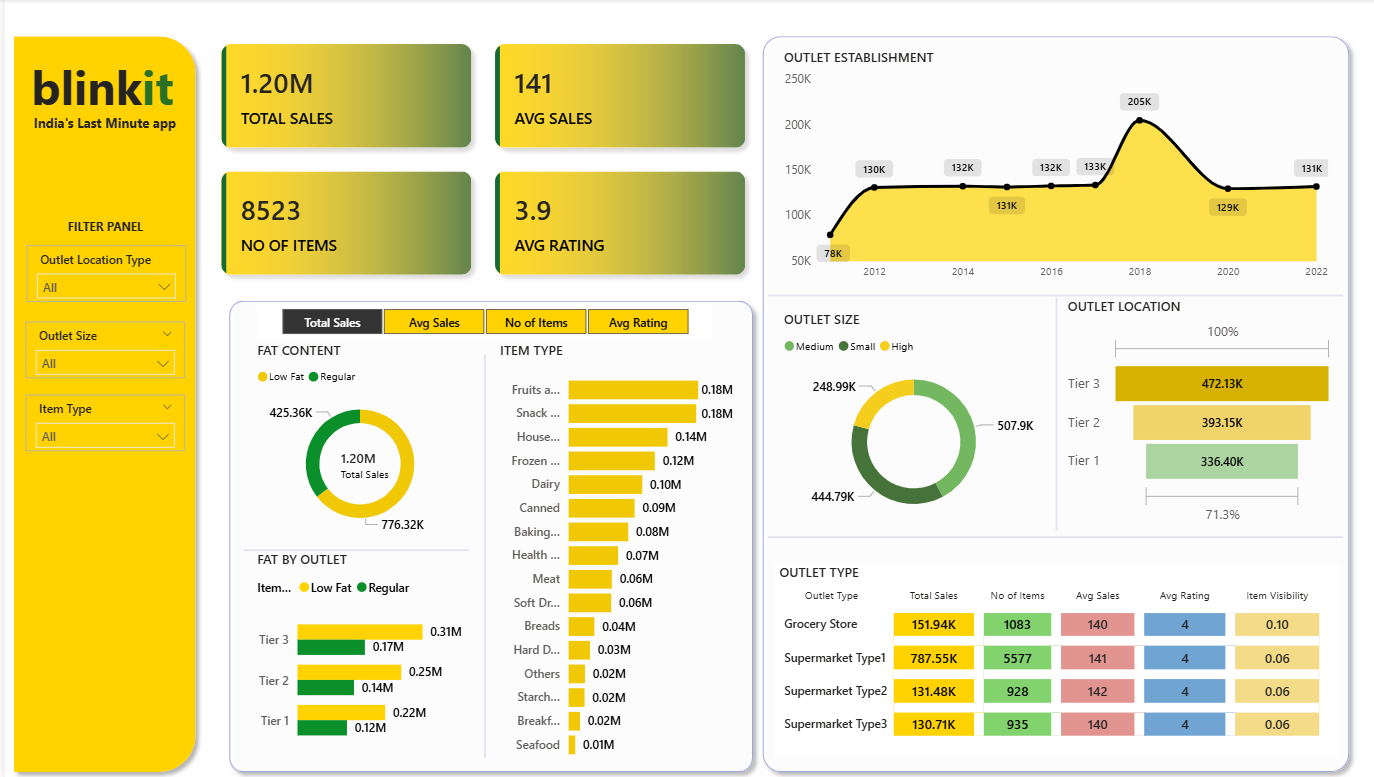

The page's visual inventory and layout, read from the dashboard file:
{"tool":"powerbi","page":{"name":"Page 1","canvas":[1400,800],"ordinal":0},"visuals":[{"type":"shape","box":[0,29.1,204,770.5],"z":0},{"type":"textbox","box":[22.1,51.3,171.4,76.9],"z":1000},{"type":"textbox","box":[24.5,113.1,169,30.3],"z":2000},{"type":"cardVisual","fields":{"Data":["BlinkIT Grocery Data.Total Sales","BlinkIT Grocery Data.Avg Sales","BlinkIT Grocery Data.No of Items","BlinkIT Grocery Data.Avg Rating"]},"box":[204,29.1,570,270.4],"z":3000},{"type":"shape","box":[220.3,299.6,553.7,500.1],"z":4000},{"type":"donutChart","title":"FAT CONTENT","fields":{"Y":["BlinkIT Grocery Data.Total Sales"],"Category":["BlinkIT Grocery Data.Item Fat Content"]},"box":[253,349.7,220.3,207.5],"z":5000},{"type":"slicer","fields":{"Values":["Metrics.Metrics"]},"box":[257.6,310.1,465.1,39.6],"z":6000},{"type":"cardVisual","fields":{"Data":["BlinkIT Grocery Data.Total Sales"]},"box":[326.4,444.1,89.8,60.6],"z":7000},{"type":"clusteredBarChart","title":"FAT BY OUTLET","fields":{"Y":["BlinkIT Grocery Data.Total Sales"],"Category":["BlinkIT Grocery Data.Outlet Location Type"],"Series":["BlinkIT Grocery Data.Item Fat Content"]},"box":[253,564.2,219.1,212.2],"z":8000},{"type":"shape","box":[243.6,550.2,230.8,26.8],"z":9000},{"type":"shape","box":[480.3,363.7,21,412.6],"z":10000},{"type":"barChart","title":"ITEM TYPE","fields":{"Y":["BlinkIT Grocery Data.Total Sales"],"Category":["BlinkIT Grocery Data.Item Type"]},"box":[501.2,349.7,248.3,437.1],"z":11000},{"type":"shape","box":[765.8,29.1,617.8,770.5],"z":12000},{"type":"lineChart","title":"OUTLET ESTABLISHMENT","fields":{"Y":["BlinkIT Grocery Data.Total Sales"],"Category":["BlinkIT Grocery Data.Outlet Establishment Year"]},"box":[791.5,50.1,566.5,246],"z":13000},{"type":"shape","box":[779.8,296.1,588.7,14],"z":14000},{"type":"donutChart","title":"OUTLET SIZE","fields":{"Y":["BlinkIT Grocery Data.Total Sales"],"Category":["BlinkIT Grocery Data.Outlet Size"]},"box":[791.5,318.2,275.1,225],"z":15000},{"type":"shape","box":[1070.1,305.4,10.5,237.8],"z":16000},{"type":"funnel","title":"OUTLET LOCATION","fields":{"Y":["Sum(BlinkIT Grocery Data.Sales)"],"Category":["BlinkIT Grocery Data.Outlet Location Type"]},"box":[1081.7,305.4,282.1,237.8],"z":17000},{"type":"shape","box":[779.8,543.2,588.7,14],"z":18000},{"type":"pivotTable","title":"OUTLET TYPE","fields":{"Rows":["BlinkIT Grocery Data.Outlet Type"],"Values":["BlinkIT Grocery Data.Total Sales","BlinkIT Grocery Data.No of Items","BlinkIT Grocery Data.Avg Sales","BlinkIT Grocery Data.Avg Rating","Avg(BlinkIT Grocery Data.Item Visibility)"]},"box":[786.8,577,577,199.3],"z":19000},{"type":"slicer","fields":{"Values":["BlinkIT Grocery Data.Outlet Location Type"]},"box":[22.1,251.8,163.2,58.3],"z":20000},{"type":"slicer","fields":{"Values":["BlinkIT Grocery Data.Outlet Size"]},"box":[21,329.9,163.2,58.3],"z":20001},{"type":"slicer","fields":{"Values":["BlinkIT Grocery Data.Item Type"]},"box":[21,404.5,163.2,58.3],"z":20002},{"type":"textbox","box":[52.5,218,100.2,33.8],"z":20003}]}

Visuals, with their boxes in screenshot pixels (x1, y1, x2, y2), scaled from the page's 1400x800 canvas onto the 1374x777 screenshot:
shape: box=[0, 28, 200, 776]
textbox: box=[22, 50, 190, 125]
textbox: box=[24, 110, 190, 139]
cardVisual - BlinkIT Grocery Data.Total Sales x BlinkIT Grocery Data.Avg Sales: box=[200, 28, 760, 291]
shape: box=[216, 291, 760, 776]
"FAT CONTENT" donutChart: box=[248, 340, 465, 541]
slicer - Metrics.Metrics: box=[253, 301, 709, 340]
cardVisual - BlinkIT Grocery Data.Total Sales: box=[320, 431, 408, 490]
"FAT BY OUTLET" clusteredBarChart: box=[248, 548, 463, 754]
shape: box=[239, 534, 466, 560]
shape: box=[471, 353, 492, 754]
"ITEM TYPE" barChart: box=[492, 340, 736, 764]
shape: box=[752, 28, 1358, 776]
"OUTLET ESTABLISHMENT" lineChart: box=[777, 49, 1333, 288]
shape: box=[765, 288, 1343, 301]
"OUTLET SIZE" donutChart: box=[777, 309, 1047, 528]
shape: box=[1050, 297, 1061, 528]
"OUTLET LOCATION" funnel: box=[1062, 297, 1338, 528]
shape: box=[765, 528, 1343, 541]
"OUTLET TYPE" pivotTable: box=[772, 560, 1338, 754]
slicer - BlinkIT Grocery Data.Outlet Location Type: box=[22, 245, 182, 301]
slicer - BlinkIT Grocery Data.Outlet Size: box=[21, 320, 181, 377]
slicer - BlinkIT Grocery Data.Item Type: box=[21, 393, 181, 449]
textbox: box=[52, 212, 150, 245]
